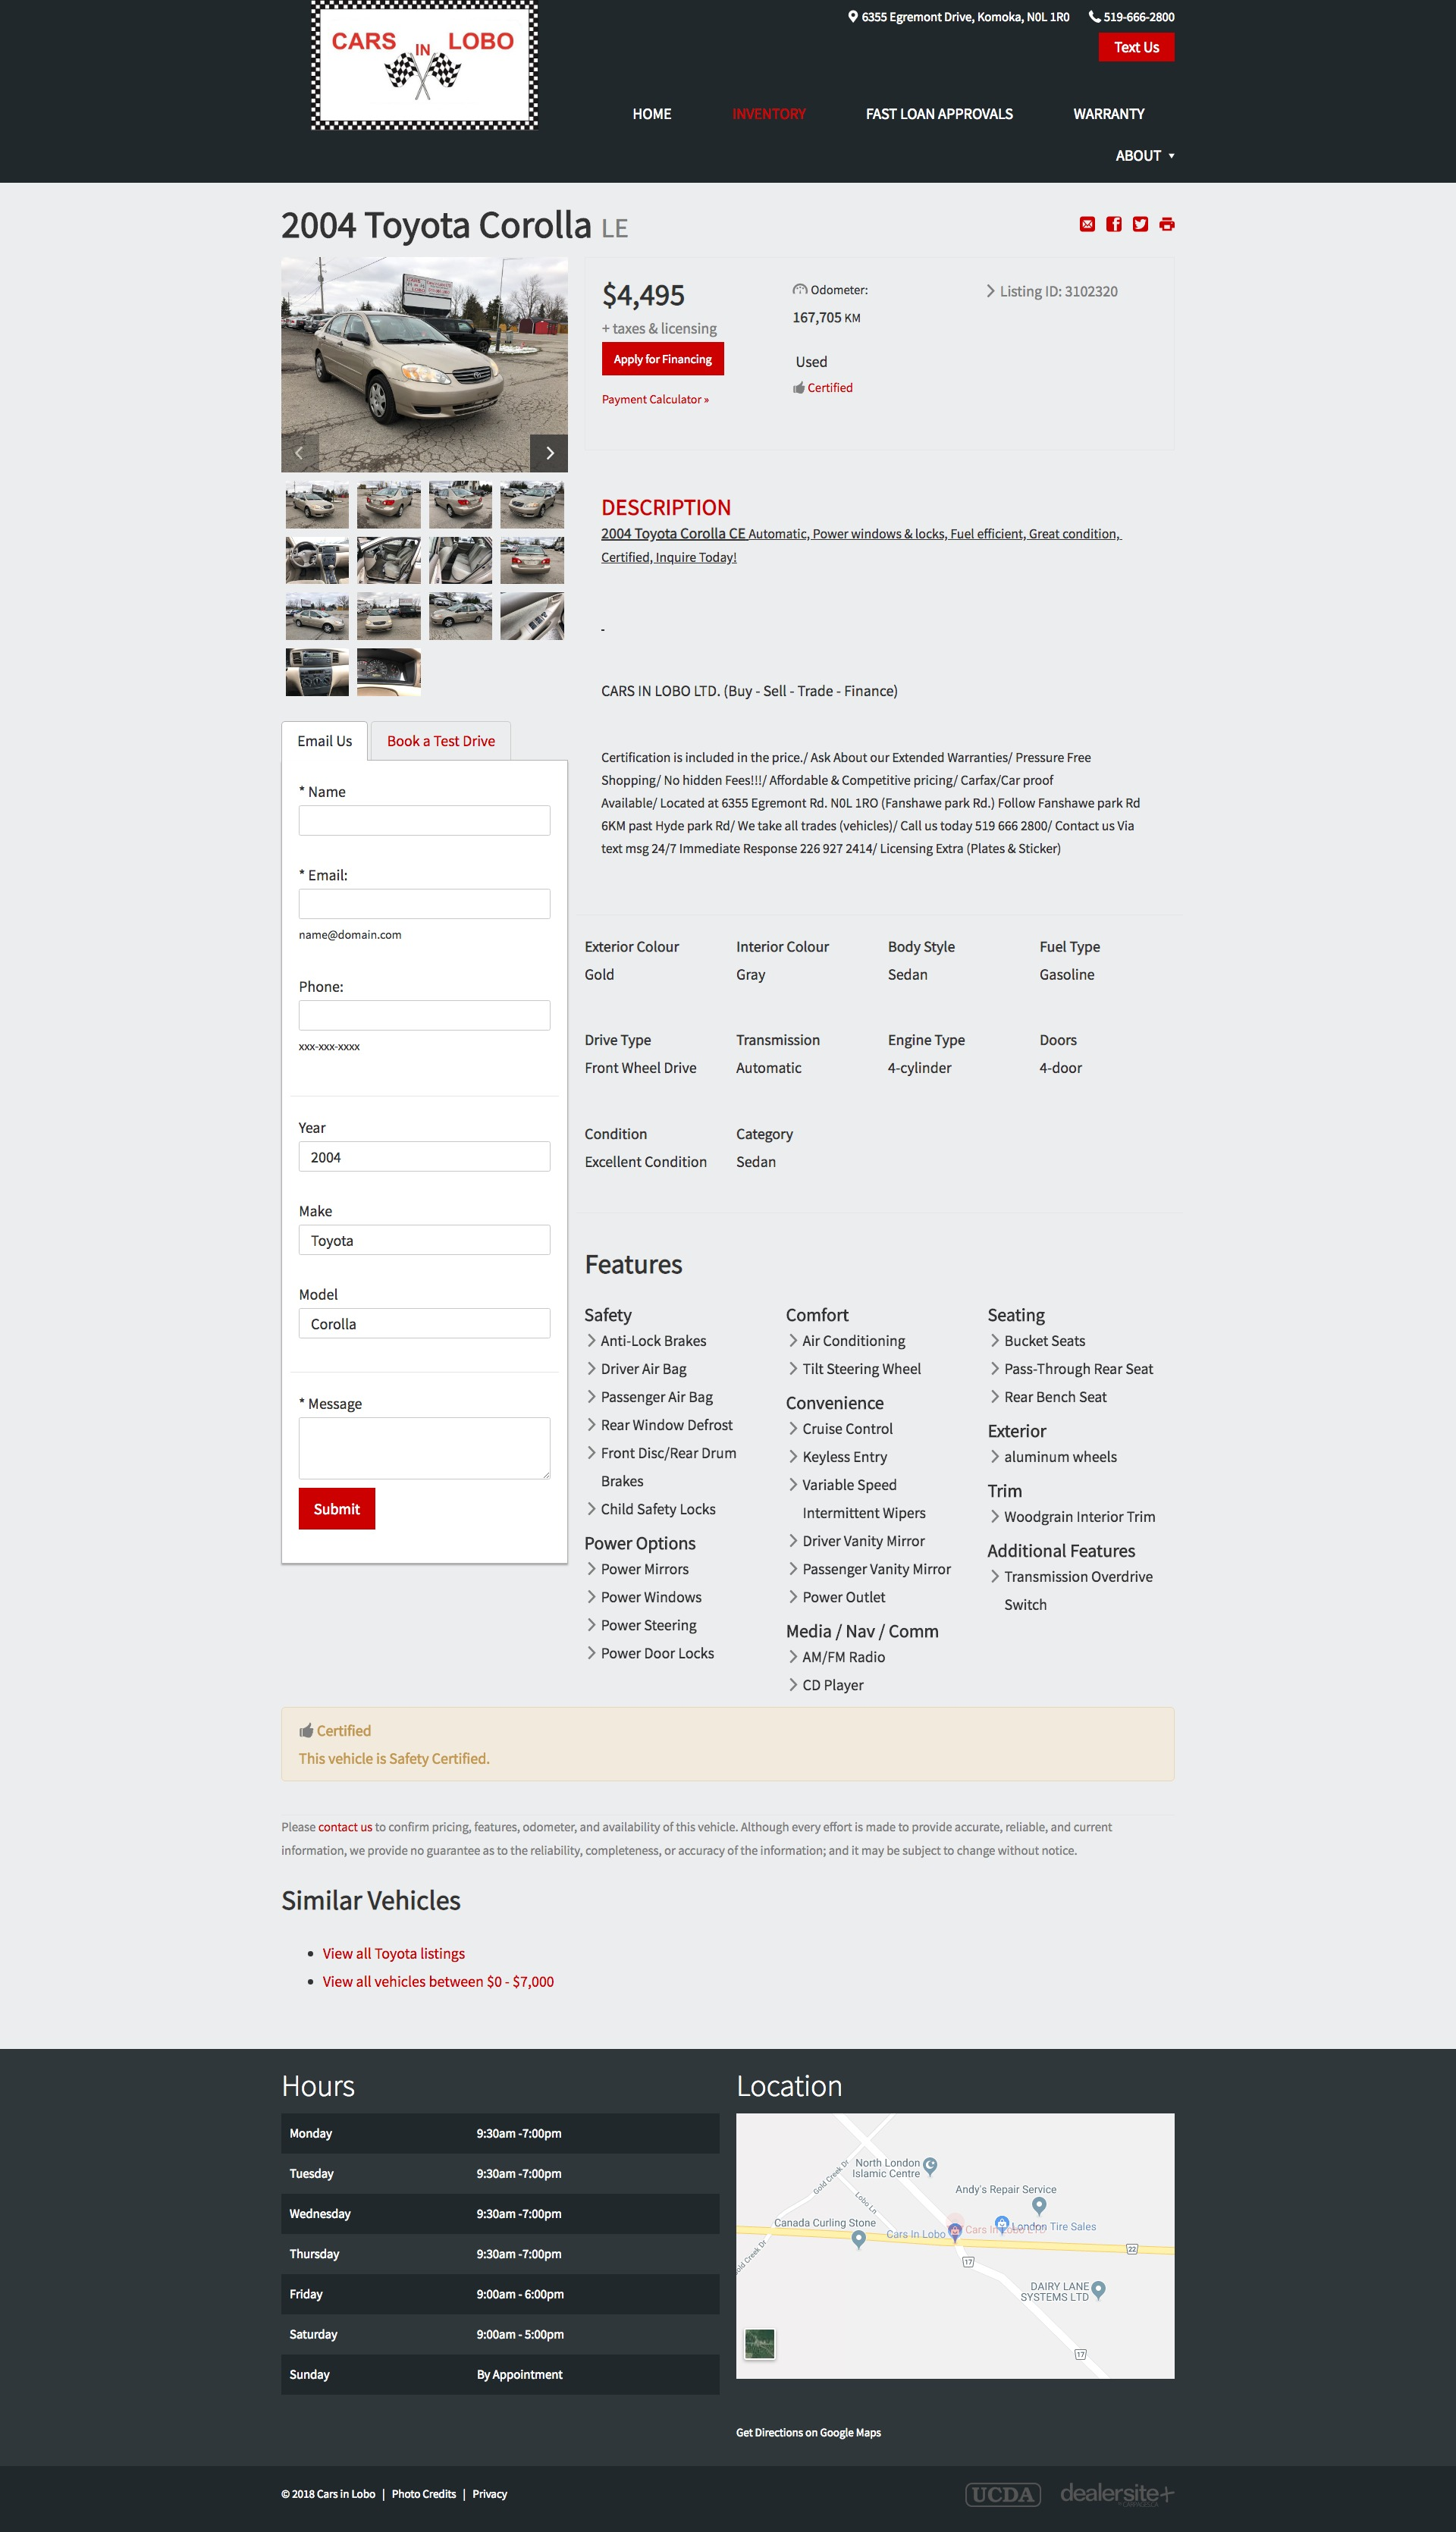car: (531, 435, 569, 475)
